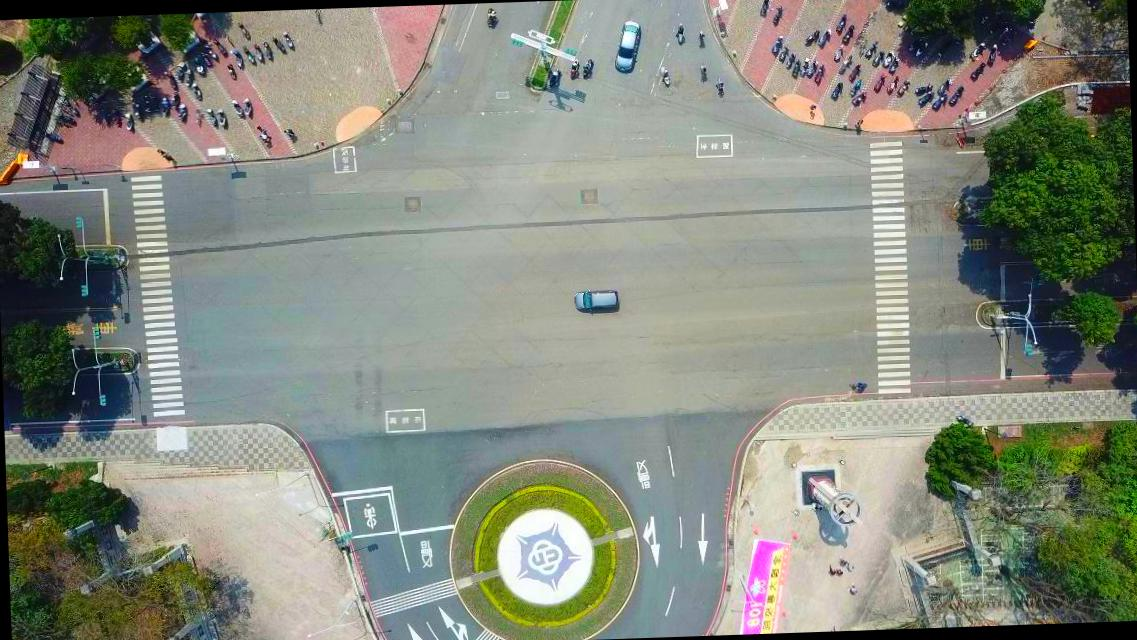vehicle: (612, 20, 643, 74), (571, 289, 619, 314)
